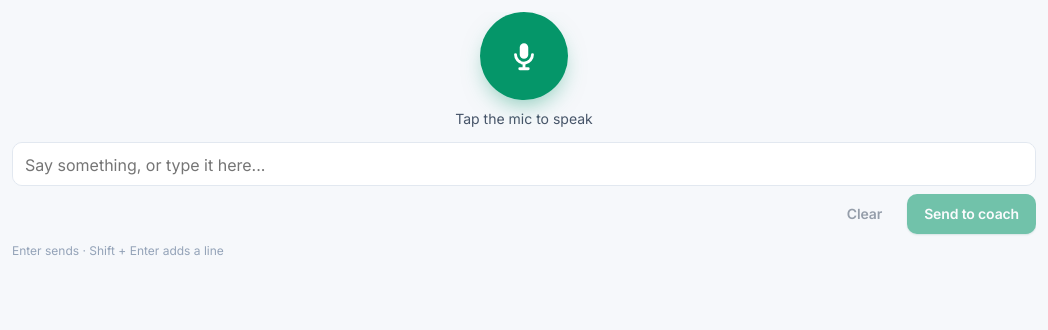
VoiceInputBar › with SpeechRecognition support › surfaces a recognition error
Click the button named "start recording" at (524, 56), box [480,12,568,100]
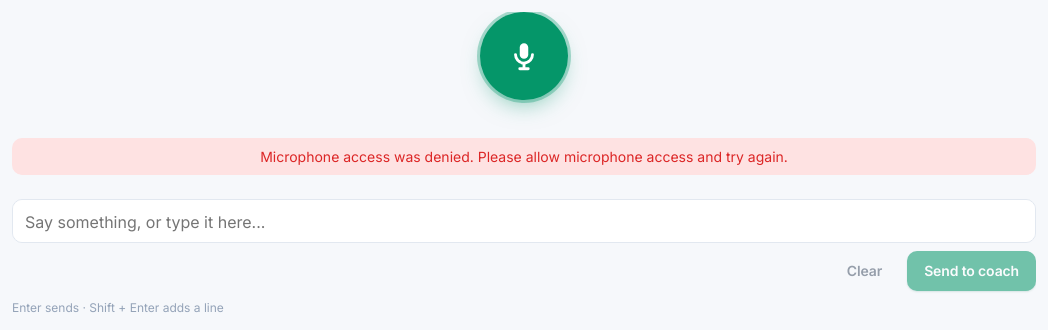
Check: the message shows "Microphone access was denied", box [260,148,788,164]
